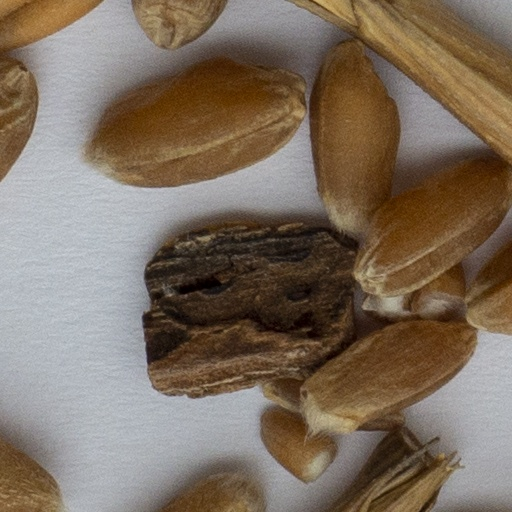Peel-poly: (143, 223, 354, 396), (305, 0, 511, 162), (337, 430, 459, 511)
Wheat-grain-damaged-poly: (255, 405, 342, 481)
